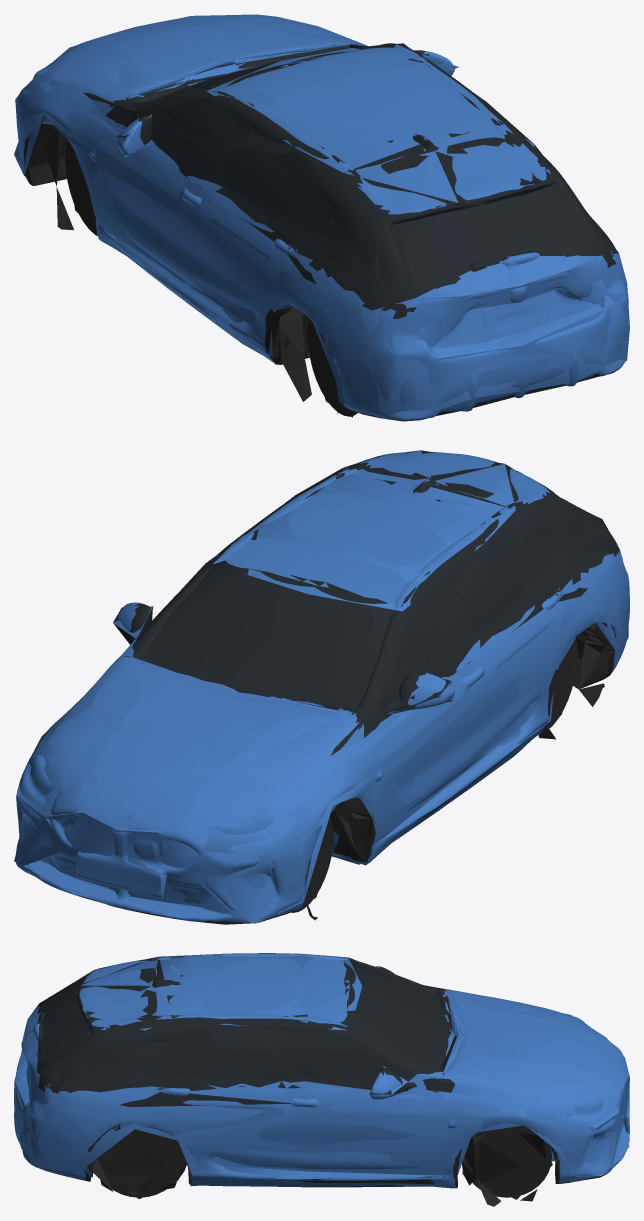
Rendered from bmw-1-series.glb.
3 views of the same model, one above another, from view 1: azimuth 30°, elevation 25°; view 2: azimuth 150°, elevation 25°; view 3: azimuth 270°, elevation 25° (orthographic). The views are drawn at different scales.
Visible parts, largest first — view 1: body, far; view 2: body, far; view 3: body, far.
Boxes of the visible parts, left/top/right/bottom form: body: left=15, top=15, right=628, bottom=421; far: left=14, top=14, right=629, bottom=417; body: left=15, top=452, right=629, bottom=924; far: left=14, top=450, right=628, bottom=923; body: left=14, top=953, right=629, bottom=1206; far: left=14, top=953, right=629, bottom=1201.
Size of the model in its own units: 2.07 by 1.41 by 4.35.
